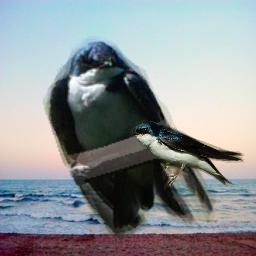Swallow: (43, 36, 220, 249), (130, 120, 248, 190)
